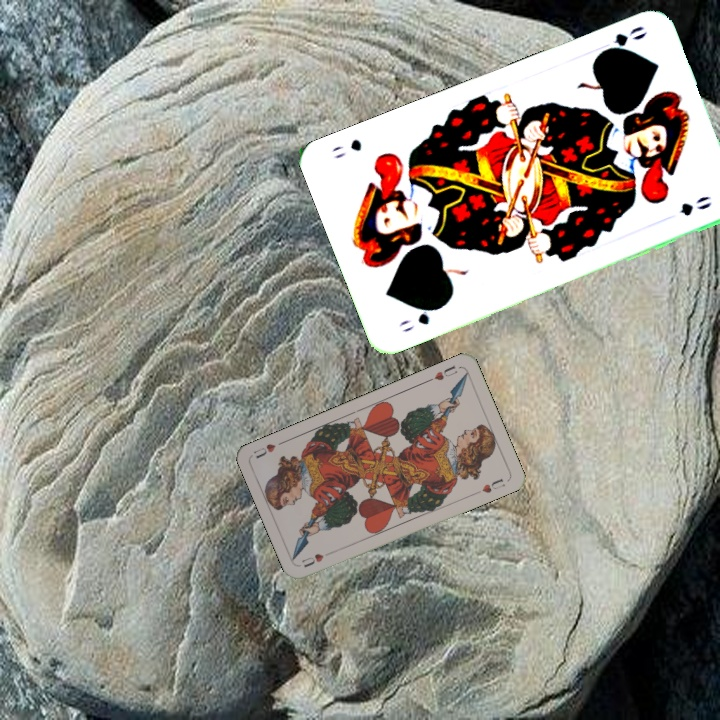GO: (594, 22, 650, 58), (394, 302, 445, 335)
HU: (423, 361, 460, 385), (298, 547, 336, 570)
